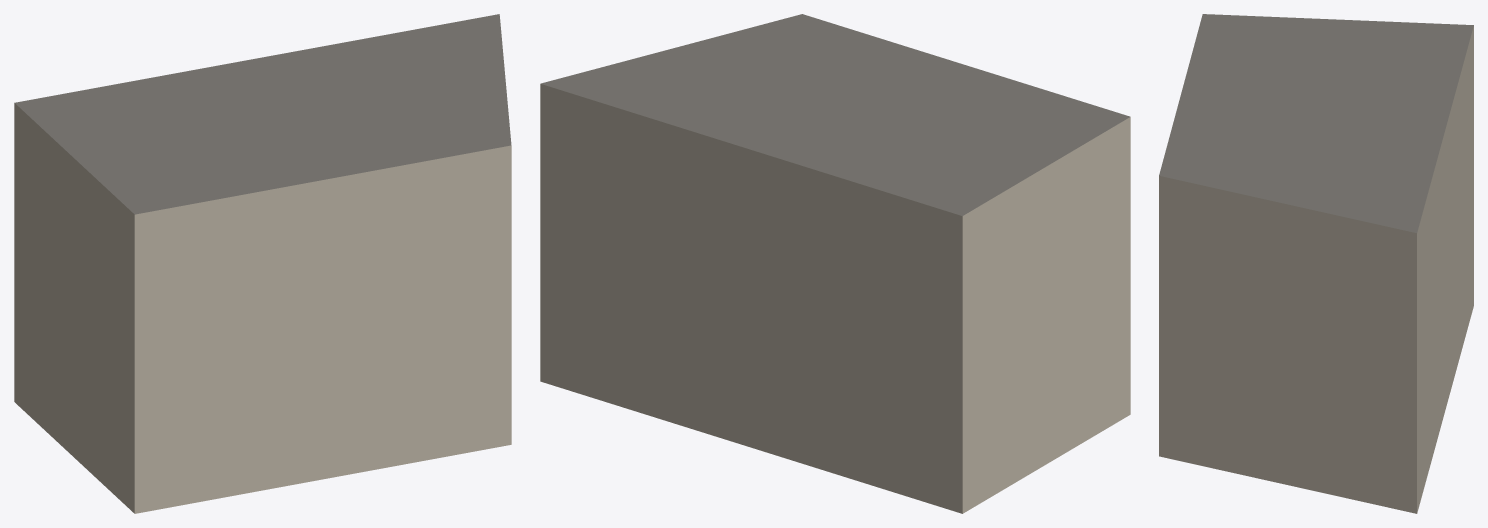
The picture shows the model from 3 angles, left to right: view 1: azimuth 30°, elevation 25°; view 2: azimuth 150°, elevation 25°; view 3: azimuth 270°, elevation 25°; orthographic projection. The views are drawn at different scales.
Visible parts, largest first — view 1: HP-w177998984; view 2: HP-w177998984; view 3: HP-w177998984.
Part boxes in pixels (bbox=[...]): HP-w177998984: bbox=[14, 14, 511, 513]; HP-w177998984: bbox=[540, 14, 1130, 513]; HP-w177998984: bbox=[1159, 14, 1473, 513].
Size of the model in its own units: 30.16 by 18 by 18.31.
